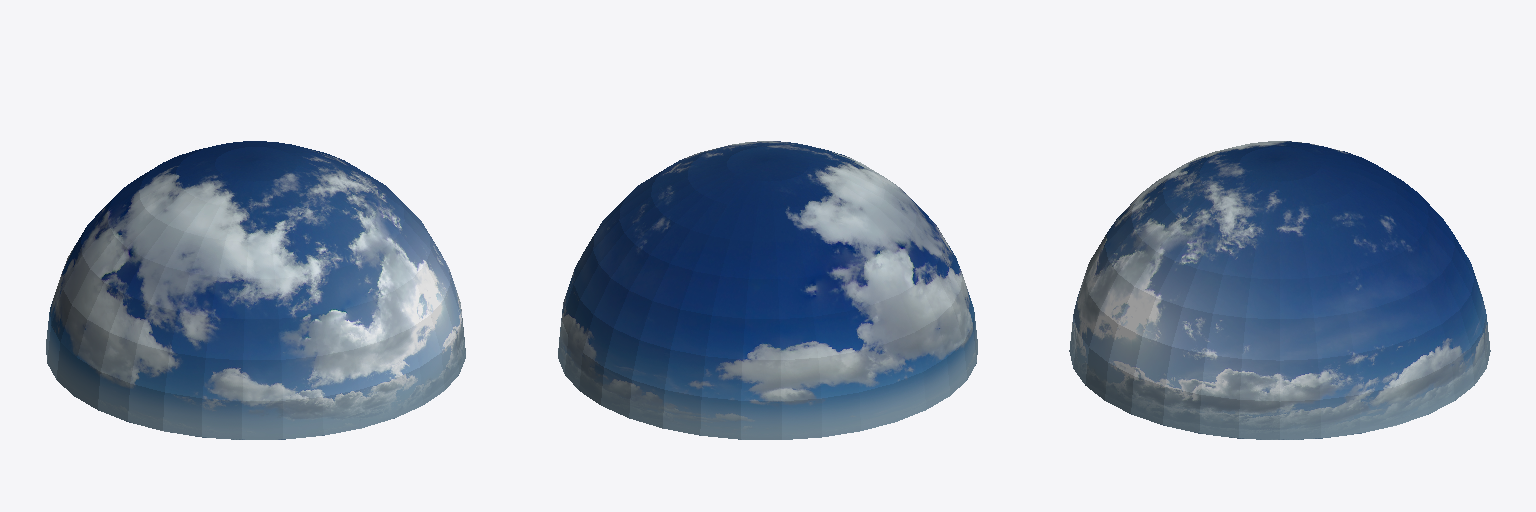
3 renders of one model, left to right at view 1: azimuth 30°, elevation 25°; view 2: azimuth 150°, elevation 25°; view 3: azimuth 270°, elevation 25°, orthographic.
Visible parts, largest first — view 1: Sphere_Sphere.001; view 2: Sphere_Sphere.001; view 3: Sphere_Sphere.001.
Boxes of the visible parts, box(x1,y1,x2,y2) form: Sphere_Sphere.001: box(46, 141, 465, 439); Sphere_Sphere.001: box(558, 141, 977, 439); Sphere_Sphere.001: box(1069, 141, 1490, 439).
Size of the model in its own units: 2 by 1 by 2.
Materials: 1 (1 with a texture image).